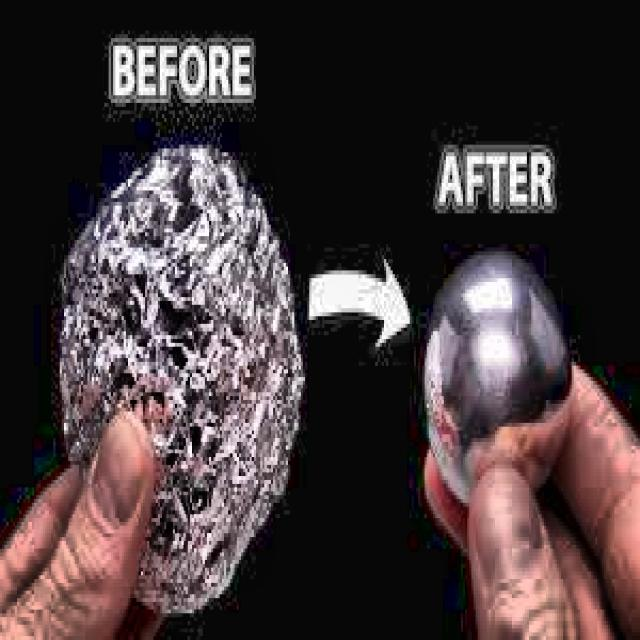Foil: (35, 126, 314, 624)
